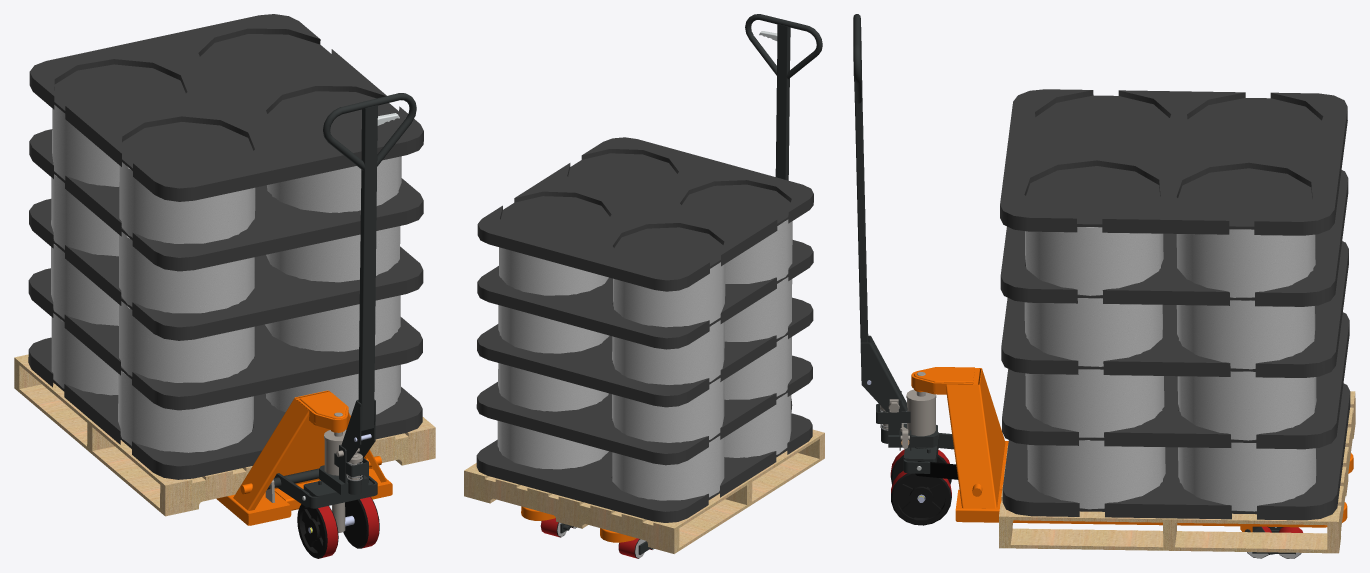
The model's file is Hand_truck_pallet_forged_wheels.obj.
3 views of the same model, side by side, from view 1: azimuth 30°, elevation 25°; view 2: azimuth 150°, elevation 25°; view 3: azimuth 270°, elevation 25° (orthographic). The views are drawn at different scales.
Parts seen in each view (by area): view 1: Solid1:21, Solid1, Solid1:22, Solid1:12, Solid1:8, Solid1:1, Solid1:3, Solid1:20, Solid1:14, Solid1:6, Solid1:11, Solid1:7 (+7 smaller); view 2: Solid1:21, Solid1:1, Solid1:3, Solid1:12, Solid1:22, Solid1:8, Solid1:5, Solid1:10, Solid1:13, Solid1:18, Solid1, Solid1:16 (+7 smaller); view 3: Solid1:21, Solid1, Solid1:1, Solid1:3, Solid1:22, Solid1:12, Solid1:8, Solid1:9, Solid1:17, Solid1:7, Solid1:2, Solid1:16 (+4 smaller).
Boxes of the visible parts, left/top/right/bottom form: Solid1:21: left=29, top=14, right=423, bottom=201; Solid1: left=216, top=93, right=416, bottom=558; Solid1:22: left=29, top=129, right=423, bottom=271; Solid1:12: left=29, top=199, right=423, bottom=340; Solid1:8: left=28, top=268, right=422, bottom=410; Solid1:1: left=14, top=354, right=435, bottom=516; Solid1:3: left=28, top=337, right=422, bottom=479; Solid1:20: left=119, top=162, right=255, bottom=243; Solid1:14: left=119, top=232, right=254, bottom=313; Solid1:6: left=118, top=370, right=253, bottom=452; Solid1:11: left=119, top=301, right=254, bottom=382; Solid1:7: left=265, top=295, right=400, bottom=351; Solid1:21: left=477, top=137, right=813, bottom=291; Solid1:1: left=464, top=429, right=824, bottom=553; Solid1:3: left=476, top=413, right=812, bottom=522; Solid1:12: left=477, top=297, right=813, bottom=407; Solid1:22: left=477, top=240, right=813, bottom=349; Solid1:8: left=476, top=355, right=812, bottom=465; Solid1:5: left=612, top=436, right=724, bottom=500; Solid1:10: left=612, top=378, right=724, bottom=442; Solid1:13: left=612, top=320, right=724, bottom=384; Solid1:18: left=613, top=262, right=725, bottom=327; Solid1: left=521, top=14, right=822, bottom=542; Solid1:16: left=498, top=305, right=609, bottom=353; Solid1:21: left=1000, top=89, right=1347, bottom=235; Solid1: left=853, top=14, right=1353, bottom=527; Solid1:1: left=999, top=391, right=1355, bottom=553; Solid1:3: left=1002, top=383, right=1350, bottom=520; Solid1:22: left=1000, top=170, right=1348, bottom=306; Solid1:12: left=1001, top=241, right=1348, bottom=377; Solid1:8: left=1002, top=312, right=1349, bottom=449; Solid1:9: left=1177, top=371, right=1316, bottom=440; Solid1:17: left=1176, top=229, right=1315, bottom=297; Solid1:7: left=1025, top=369, right=1164, bottom=437; Solid1:2: left=1027, top=440, right=1165, bottom=509; Solid1:16: left=1176, top=300, right=1315, bottom=369.
Size of the model in its own units: 1.07 by 1.78 by 1.65.
